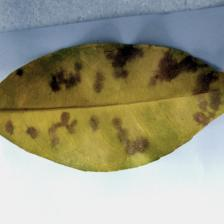canker: (14, 38, 222, 136)
